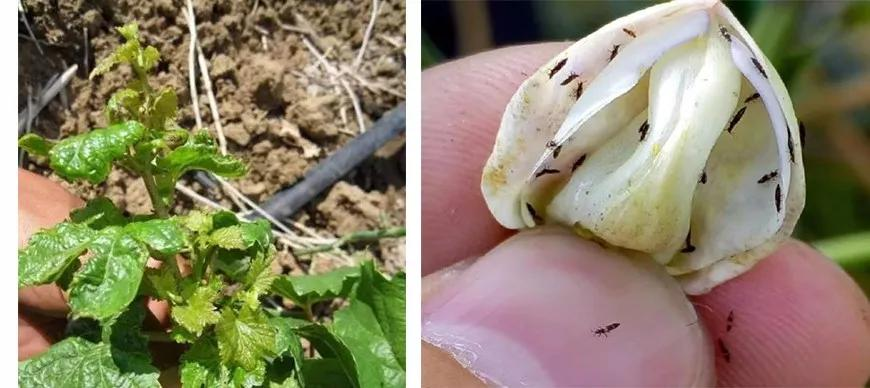thrips: (590, 316, 623, 341), (725, 105, 750, 134), (681, 216, 698, 257), (524, 199, 548, 225), (712, 336, 732, 364), (545, 55, 567, 80), (756, 166, 783, 186), (750, 55, 770, 80), (532, 162, 563, 176), (787, 125, 798, 163), (607, 40, 623, 63), (722, 305, 736, 331), (570, 152, 588, 172), (637, 119, 652, 142), (775, 183, 786, 214), (717, 22, 732, 41), (558, 73, 581, 85), (745, 89, 763, 104), (620, 27, 638, 40), (698, 169, 711, 185), (573, 83, 585, 99)
